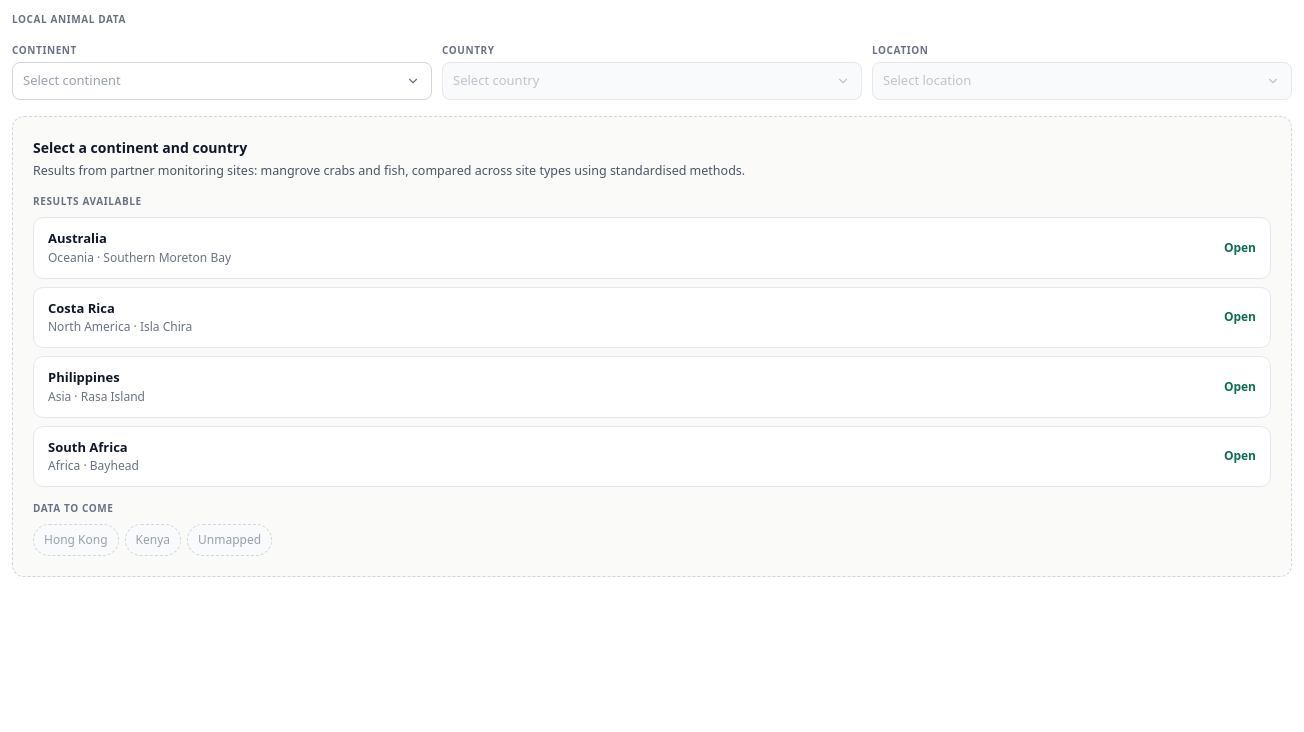
Test: LocalAnimalPanel › selector and empty states › says when a continent has no results yet
Select "Other" in the dropdown labelled "Continent" at (222, 81), box x1=12 y1=62 x2=432 y2=100
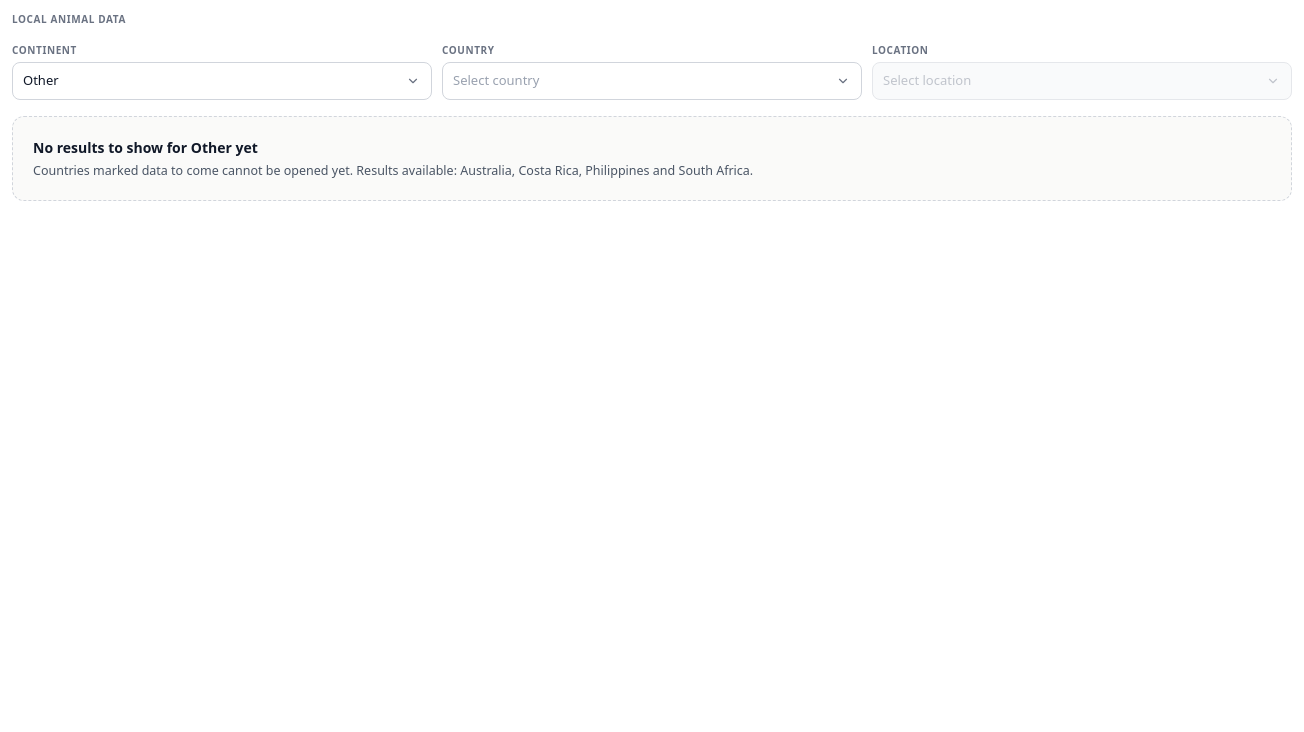
Result: the text "No results to show for Other yet" is shown at x1=33 y1=138 x2=258 y2=157
Result: the text "Results available: Australia, Costa Rica, Philippines and South Africa." is shown at x1=353 y1=162 x2=753 y2=179
